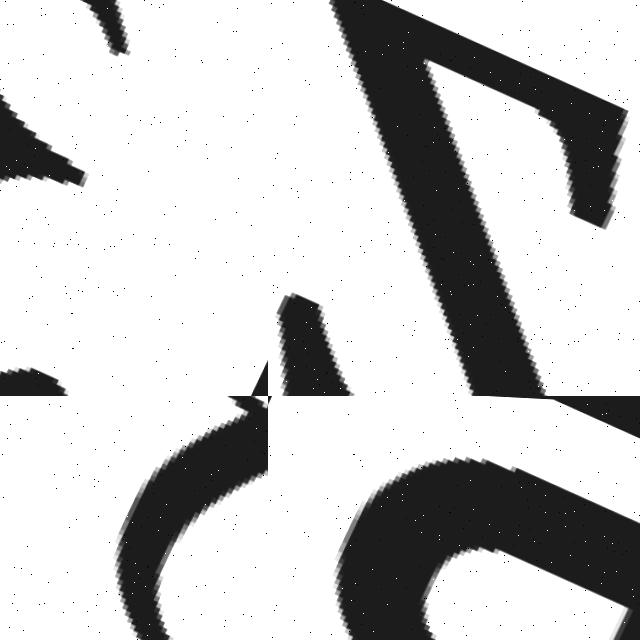3: (0, 0, 268, 396)
8: (28, 396, 268, 640)
B: (332, 451, 640, 640)
Z: (268, 0, 640, 396)
